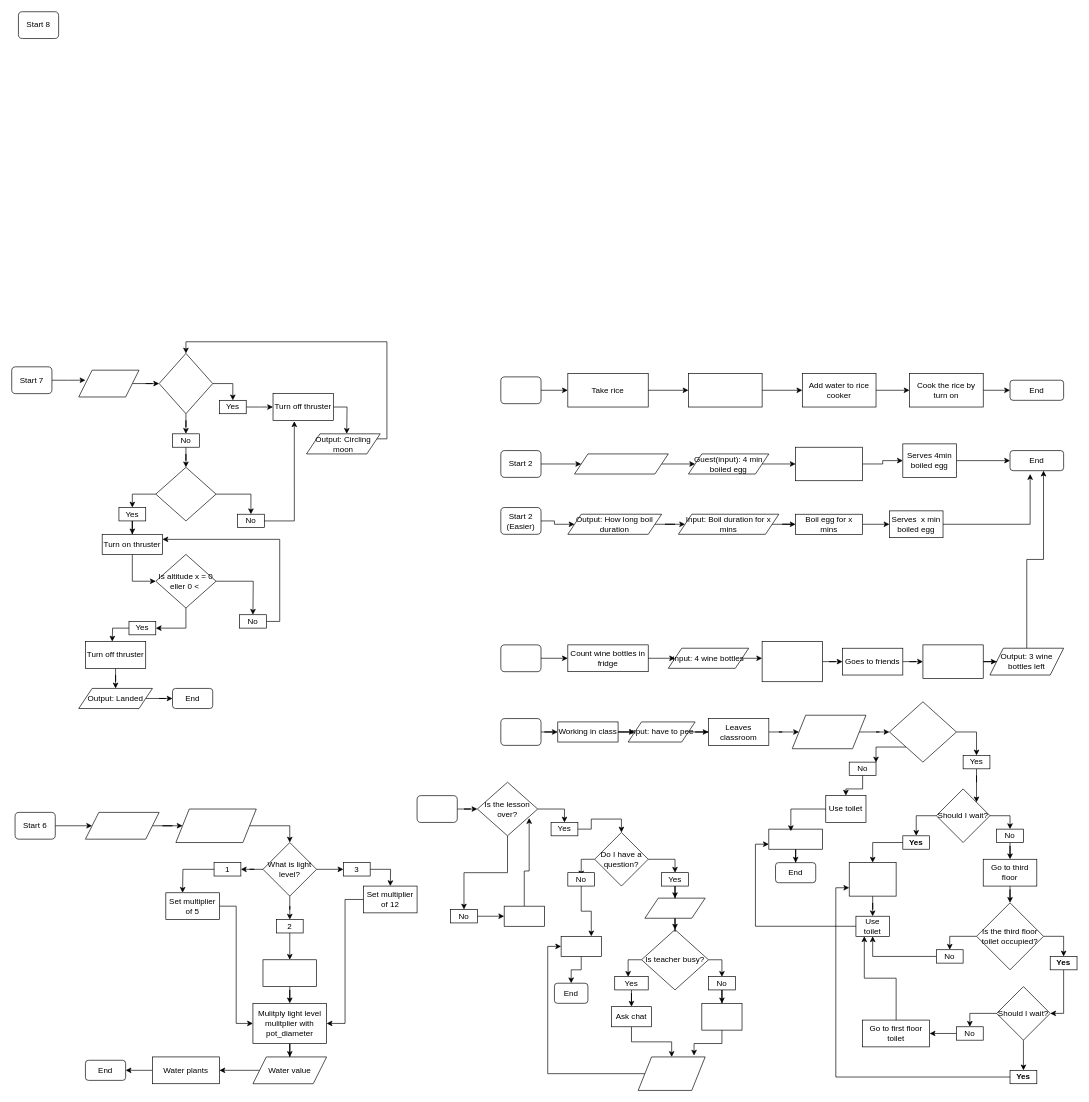
Image size: 1089x1102. Some labels were removed from this diagram. The shapes that lost their labels are listed below. From the top down, each one's box as (x1, y1, x2, y2) in pixels, then its label:
(78, 370, 139, 397): Input: Altitude x
(158, 353, 213, 414): Is altitude x > 100?
(500, 376, 541, 404): Start 1
(688, 373, 762, 407): Place rice in rice cooker
(574, 453, 668, 474): Output: How boiled must the egg be?
(795, 447, 863, 481): boils egg for 4 mins
(155, 467, 216, 521): Is altitude x < eller = 100
(500, 644, 541, 672): Start 3
(761, 641, 822, 682): Takes 1 wine bottle for celebration
(922, 644, 983, 678): Tell them about the amount of wine bottles left
(500, 718, 541, 745): Start 4
(792, 715, 866, 749): Input: a single toilet room nearby
(889, 701, 956, 762): Is the toilet occupied?
(85, 812, 159, 839): Input: plant_diameter
(175, 808, 256, 843): seen_light_level
(416, 795, 457, 822): Start 5
(768, 828, 822, 849): Return to class
(849, 862, 896, 896): Wait for toilet to be unoccupied
(504, 906, 544, 926): Wait
(644, 897, 705, 918): Input: x question
(560, 936, 601, 956): Go home
(262, 959, 317, 987): Set multiplier of 8
(701, 1003, 742, 1030): Ask Teacher
(638, 1056, 705, 1090): Output: y answer to x question
